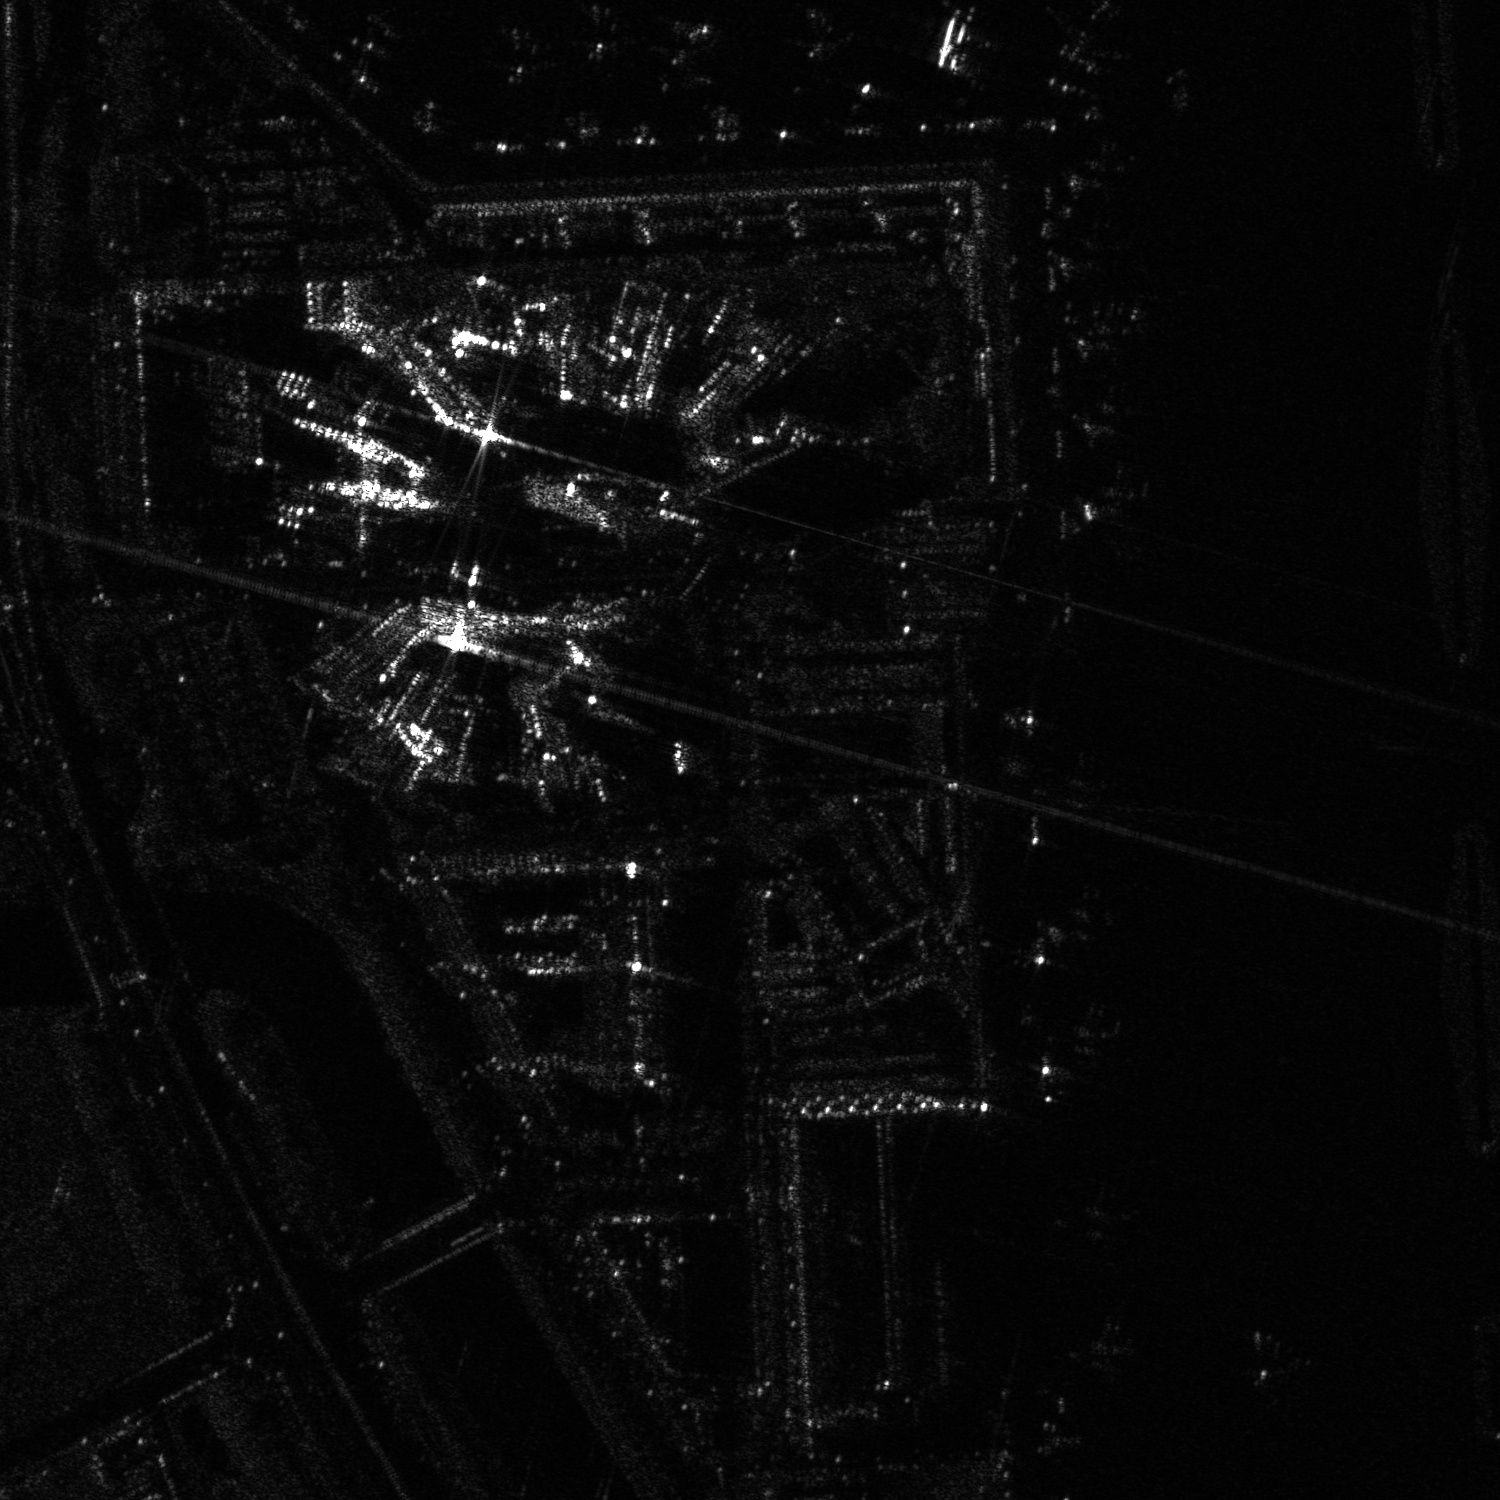A220: (1036, 872, 1144, 968), (1038, 990, 1141, 1074), (1073, 462, 1154, 554), (1069, 1304, 1157, 1382), (1077, 370, 1154, 456), (1060, 1181, 1143, 1260), (554, 1, 648, 69), (1073, 290, 1151, 371)
A320/321: (1027, 1, 1126, 102)
Boeing737: (467, 26, 573, 91)
Boeing787: (907, 1, 992, 91), (773, 1, 868, 60)
other: (1216, 1320, 1328, 1391), (636, 12, 723, 104)
